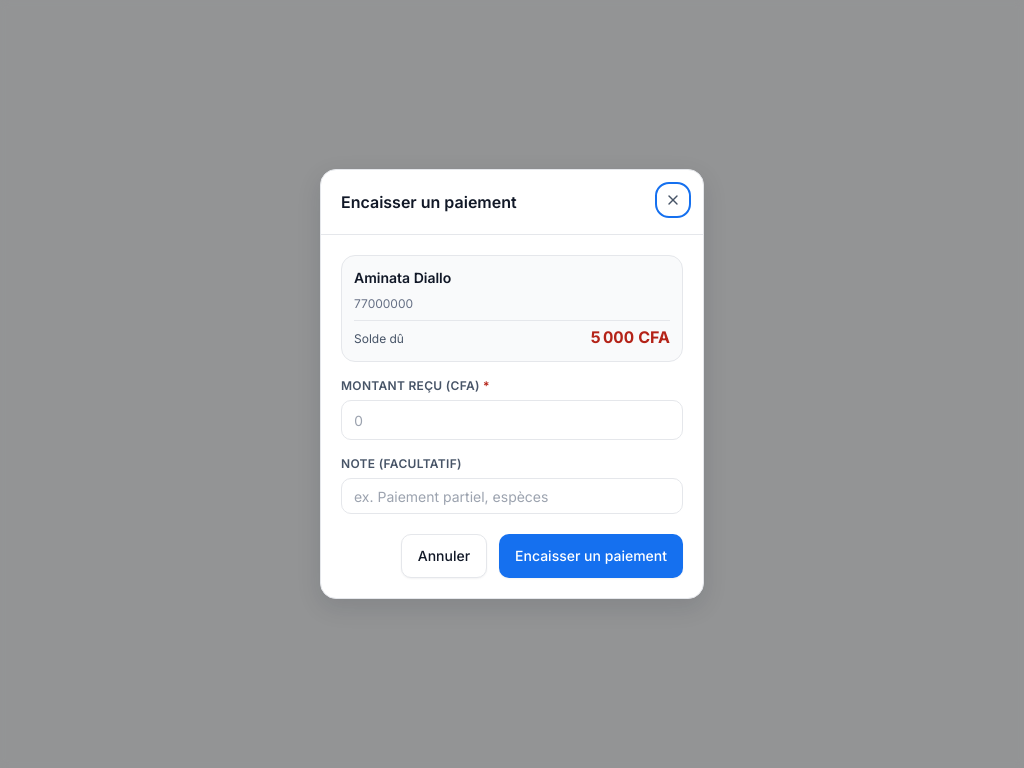
Test case: RecordPaymentModal › B11: success copy is bilingual French, not hardcoded English
Type "1000" into the field with placeholder "0" at (512, 420), box [341,400,683,440]
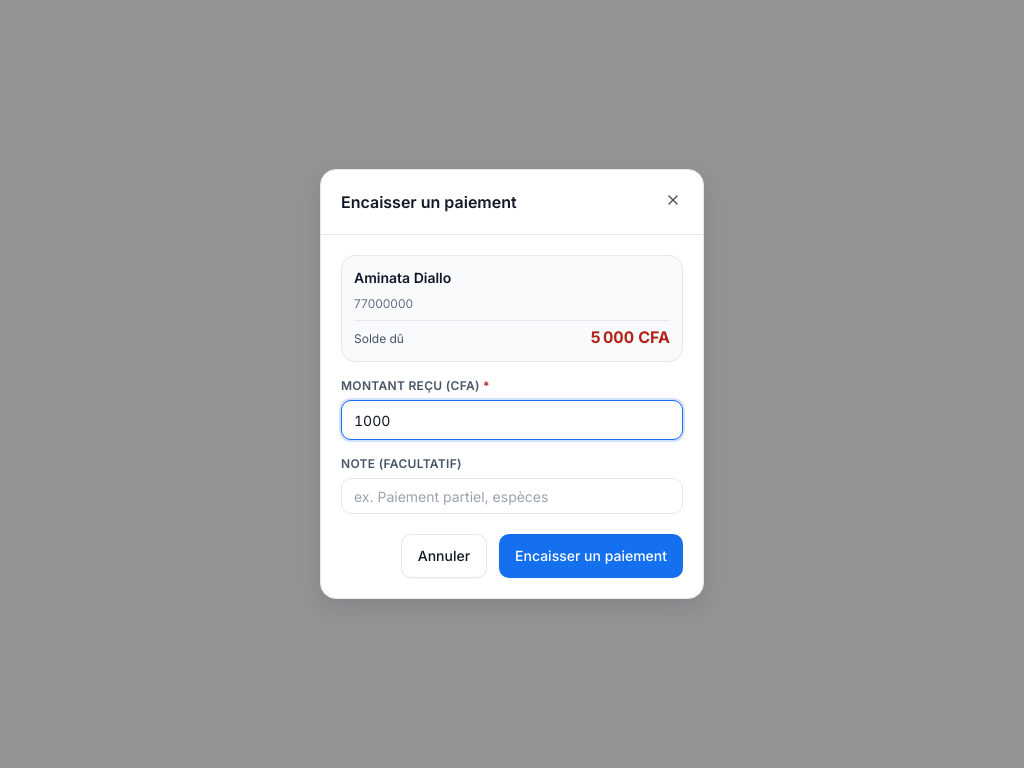
Click the button "Encaisser un paiement" at (591, 556), box [499,534,683,578]
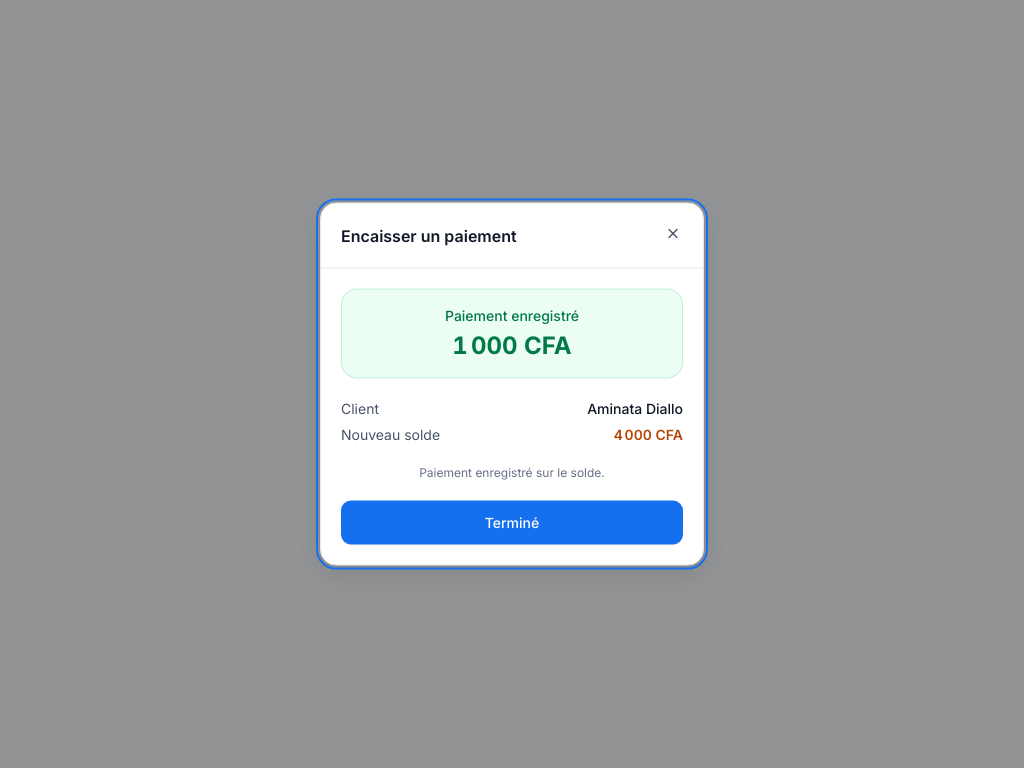
Expected: the text "Paiement enregistré" is shown, [445,306,579,324]
Expected: the text "Client" is shown, [341,398,379,418]
Expected: the button "Terminé" is shown, [341,500,683,544]
